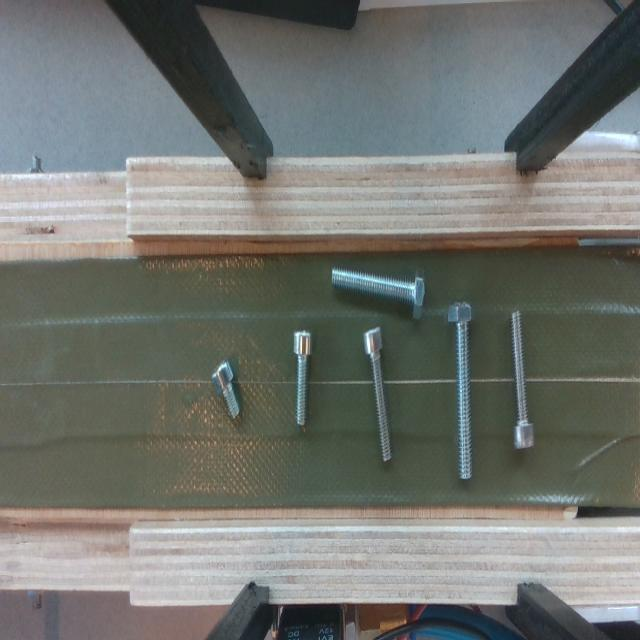Bolt: (317, 265, 428, 325), (444, 302, 478, 488), (360, 326, 396, 473), (507, 304, 540, 460), (204, 353, 248, 427), (287, 323, 314, 432)
